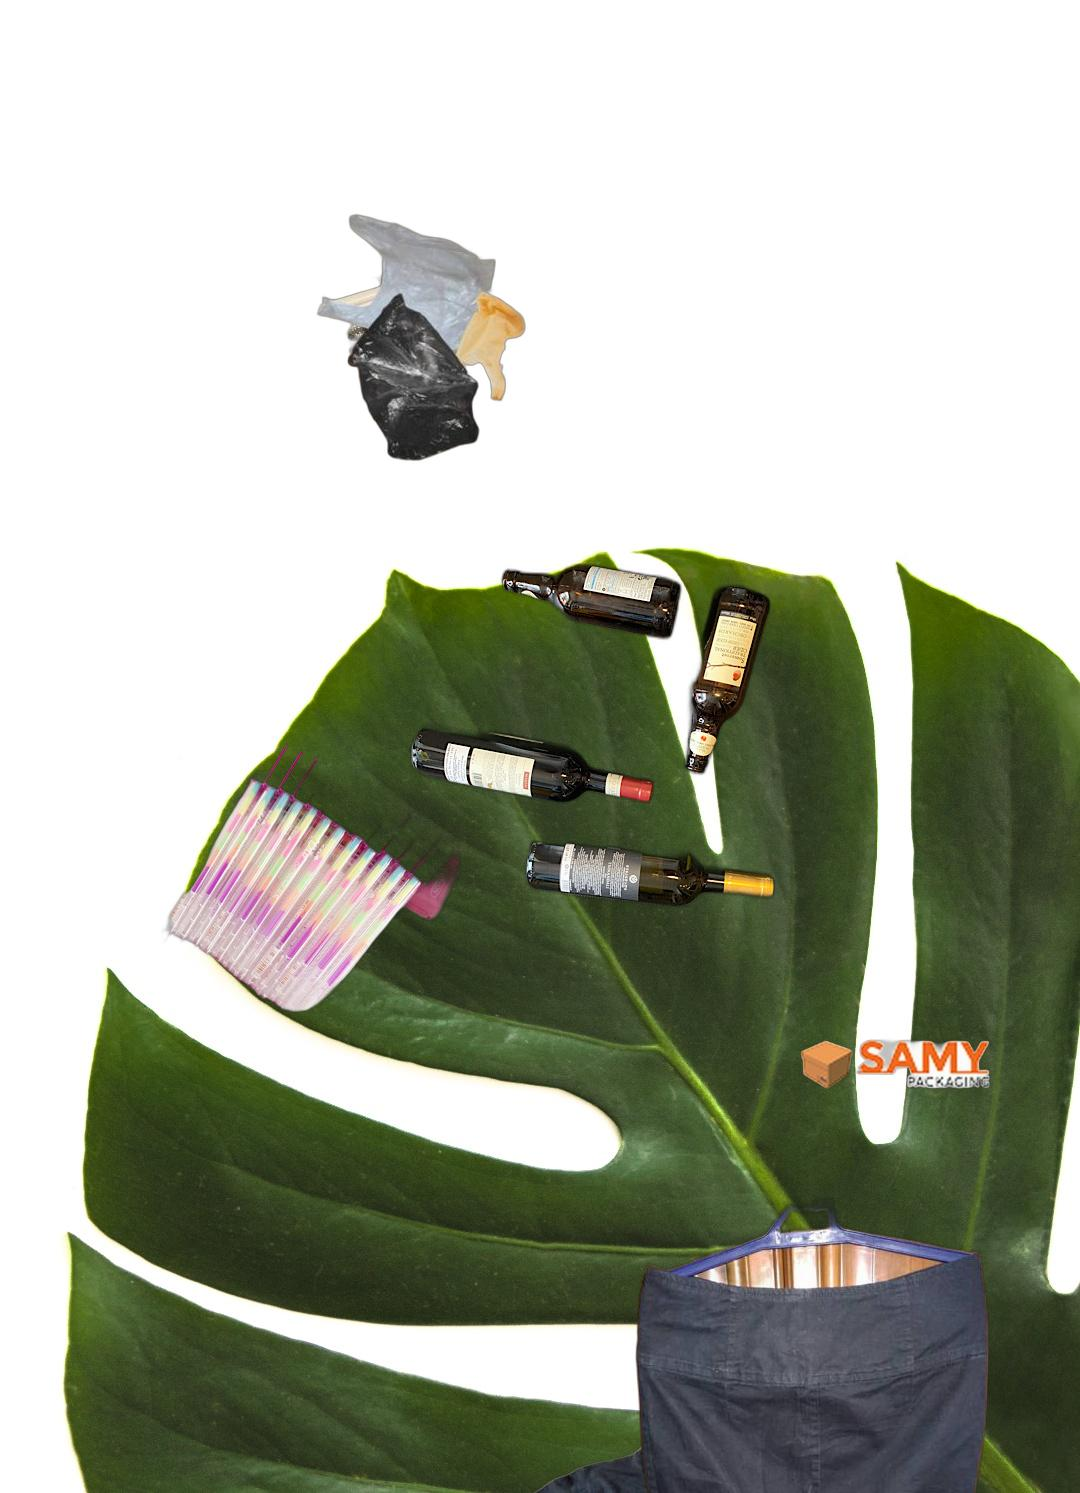clothes: (632, 1197, 993, 1493), (508, 1433, 873, 1493)
glass: (406, 558, 778, 913), (1061, 1490, 1080, 1493)
metal-cans: (834, 1321, 990, 1439)
penholder: (161, 736, 461, 1012)
plastic-bag: (315, 213, 528, 464)
trashbox-cardboard: (798, 1037, 993, 1092)
